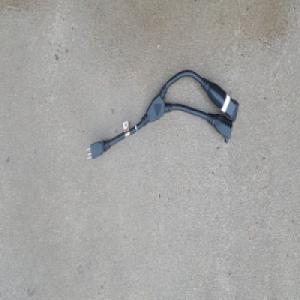Wire: (84, 68, 240, 162)
